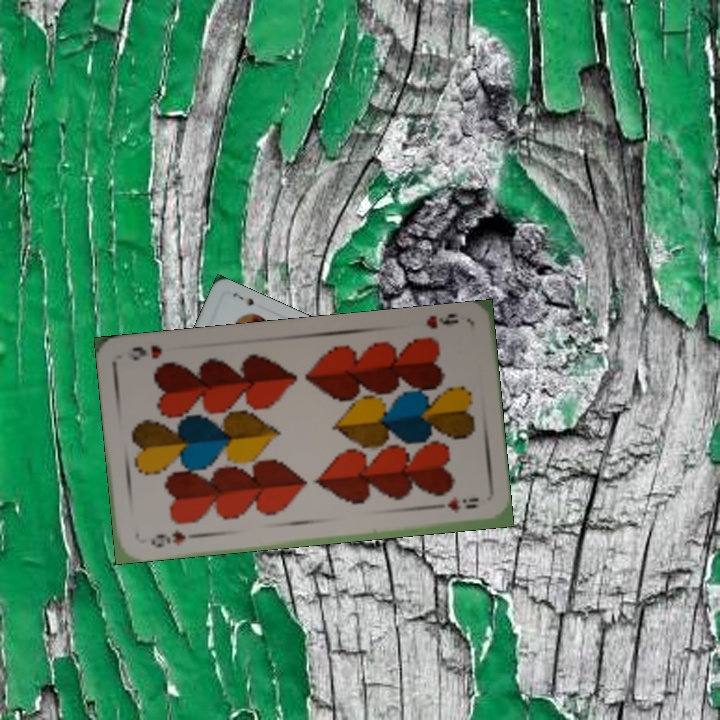H9: (147, 526, 197, 550), (422, 309, 462, 332)
